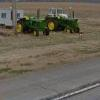Tractor: (15, 5, 86, 37)
